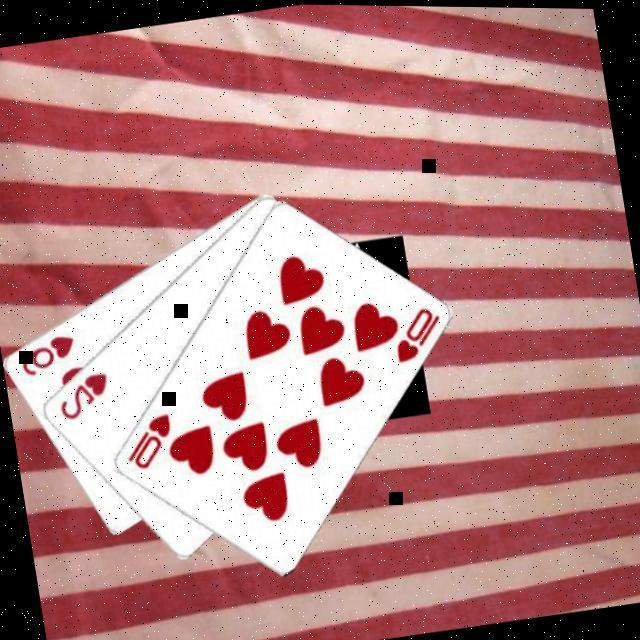10H: (119, 408, 181, 474), (388, 300, 450, 366)
2H: (54, 368, 118, 426)
6H: (16, 329, 82, 382)
